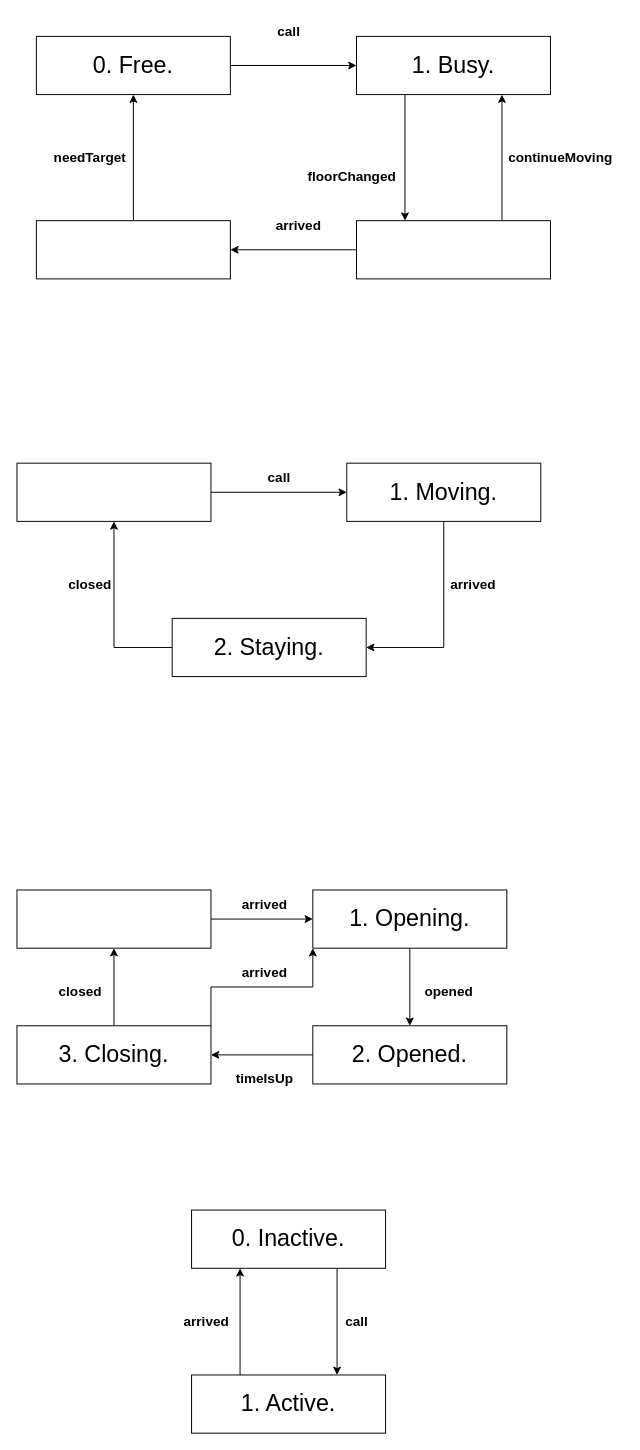
The diagram is 640 pixels wide and 1450 high, and some of its shapes have lost their labels. Here are the shapes that lost their labels. From the top down, the box of each, then its label:
(35, 220, 230, 279): 3. Waiting.
(356, 220, 550, 279): 2. Solving.
(16, 462, 211, 521): 0. Waiting.
(16, 889, 211, 948): 0. Closed.
